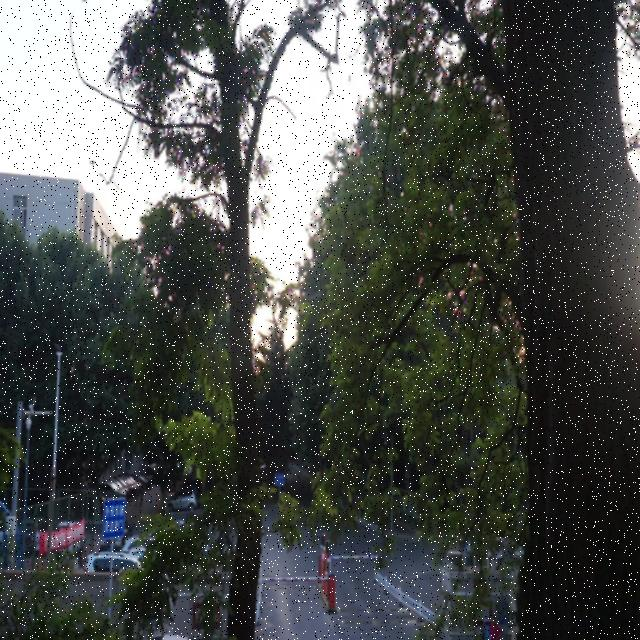UAV: (89, 160, 96, 167)
